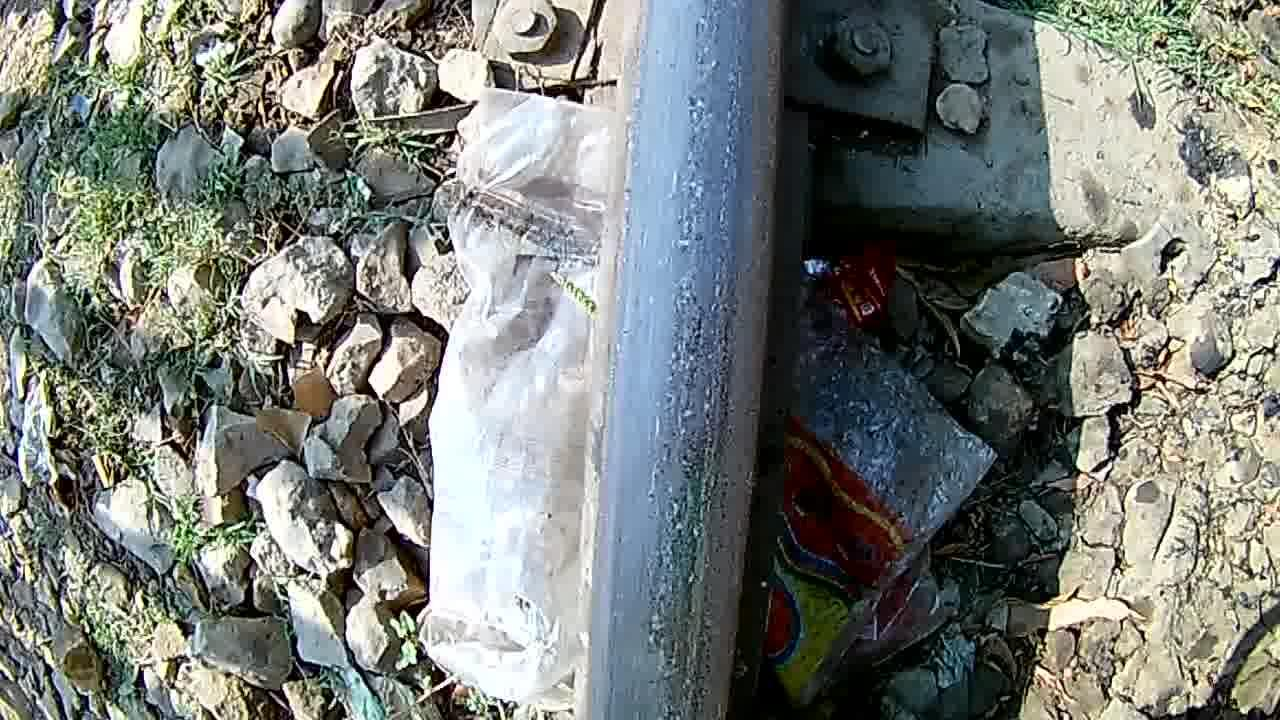clip_missing: (620, 21, 756, 706)
